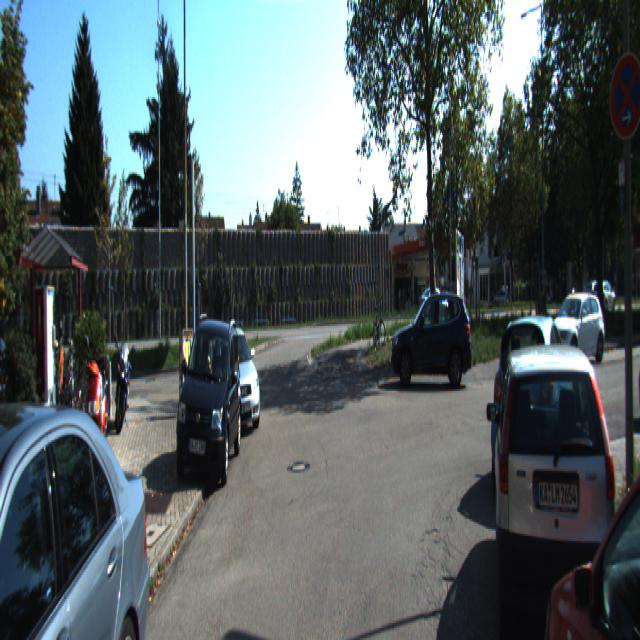Car: (0, 357, 159, 638), (493, 323, 625, 638), (525, 296, 640, 638), (486, 299, 576, 518), (174, 308, 243, 498), (388, 282, 473, 388), (206, 319, 264, 439), (541, 294, 606, 368), (416, 281, 451, 321), (638, 288, 640, 413)
